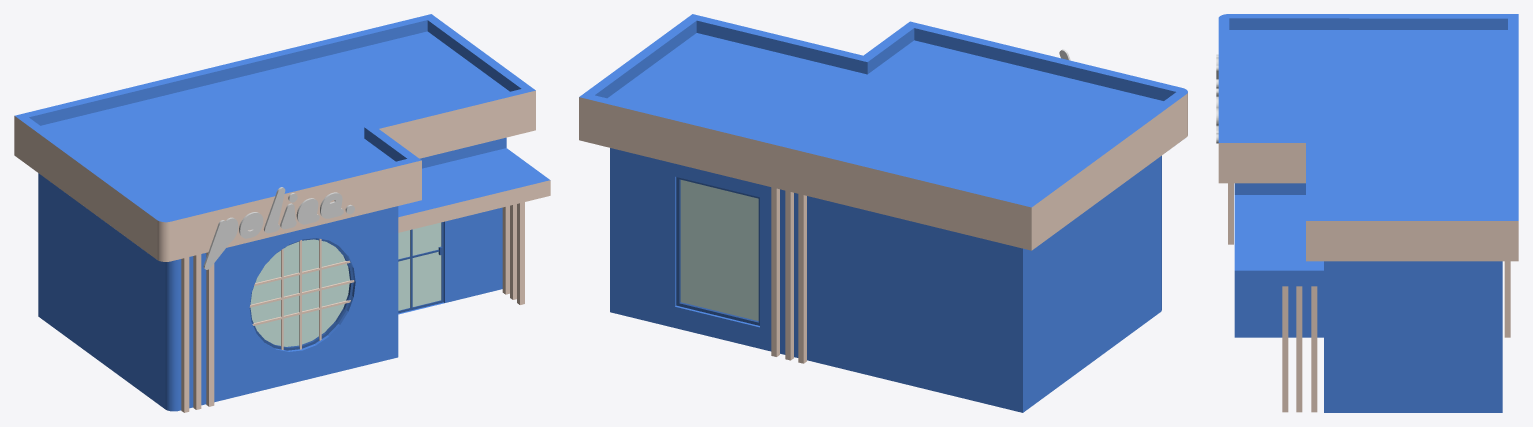
File: police_station1.fbx
3 views of the same model, side by side, from view 1: azimuth 30°, elevation 25°; view 2: azimuth 150°, elevation 25°; view 3: azimuth 270°, elevation 25° (orthographic). The views are drawn at different scales.
Visible parts, largest first — view 1: police_station; view 2: police_station; view 3: police_station.
Part boxes in pixels (x1,y1,x2,y2): police_station: (14, 14, 550, 412); police_station: (579, 14, 1187, 412); police_station: (1216, 14, 1518, 412).
Size of the model in its own units: 845 by 400 by 522.
